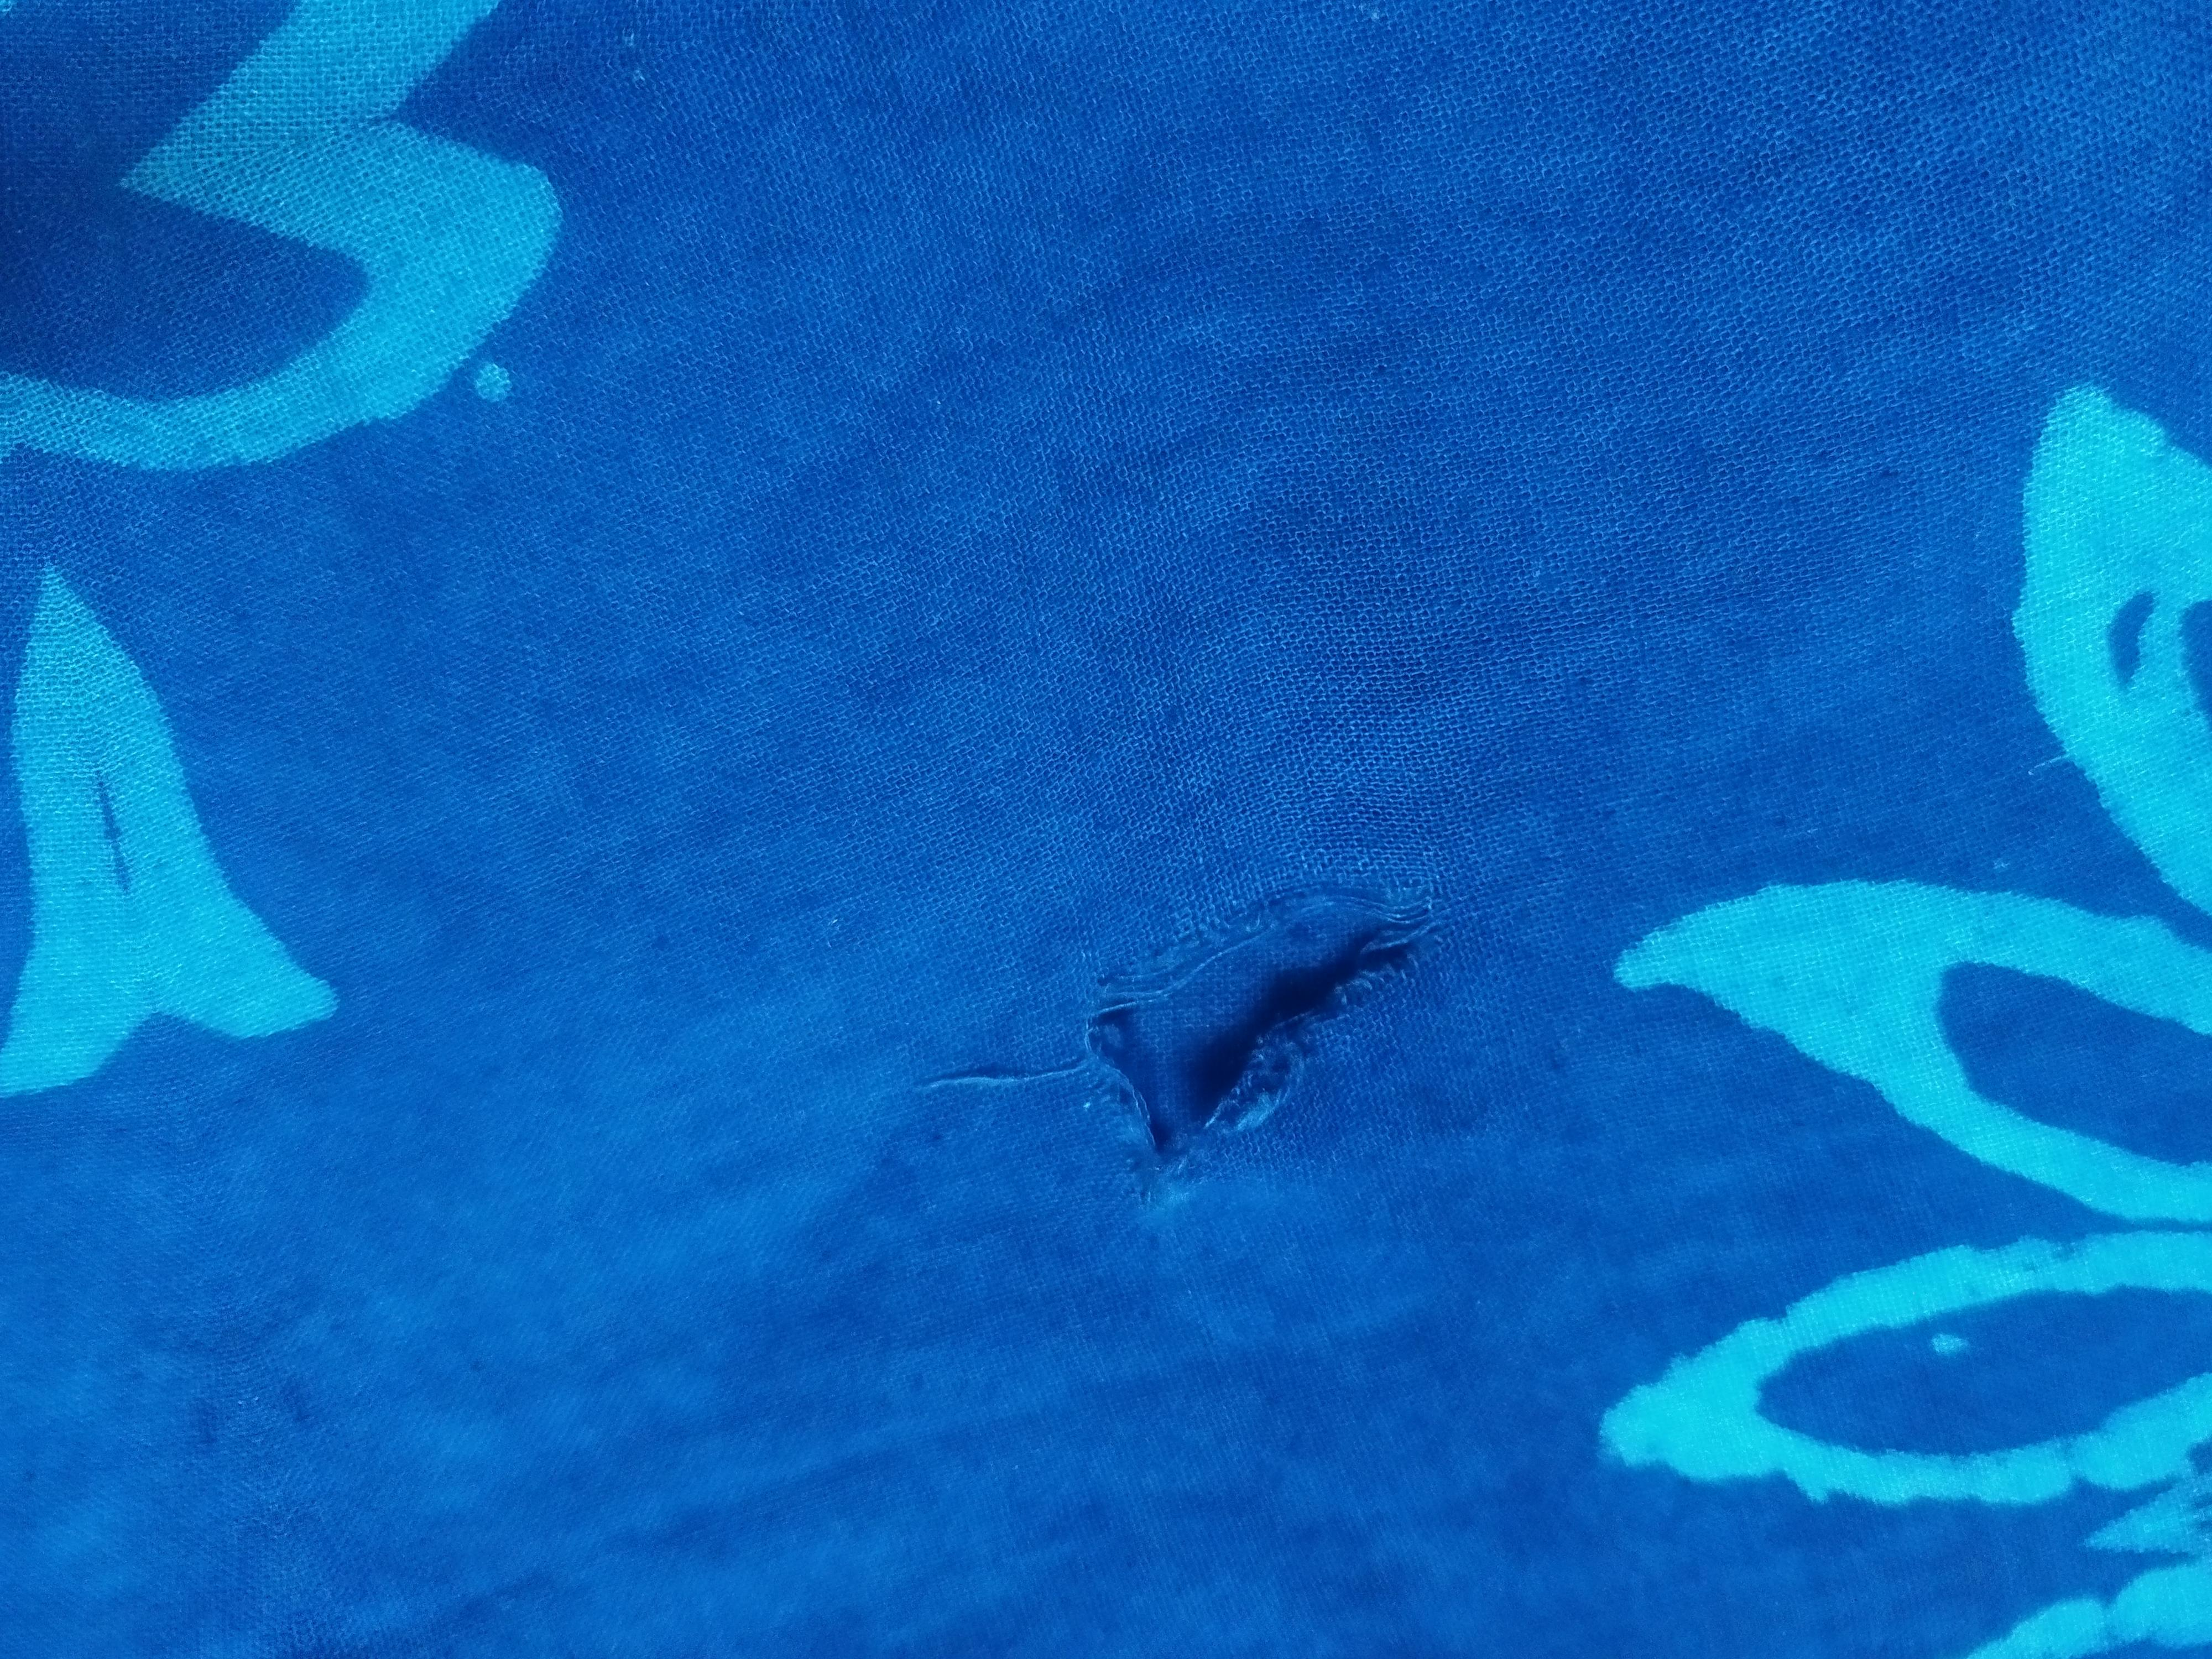hole: (1062, 870, 1456, 1182)
